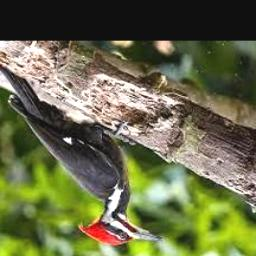Woodpecker: (0, 59, 164, 246)
